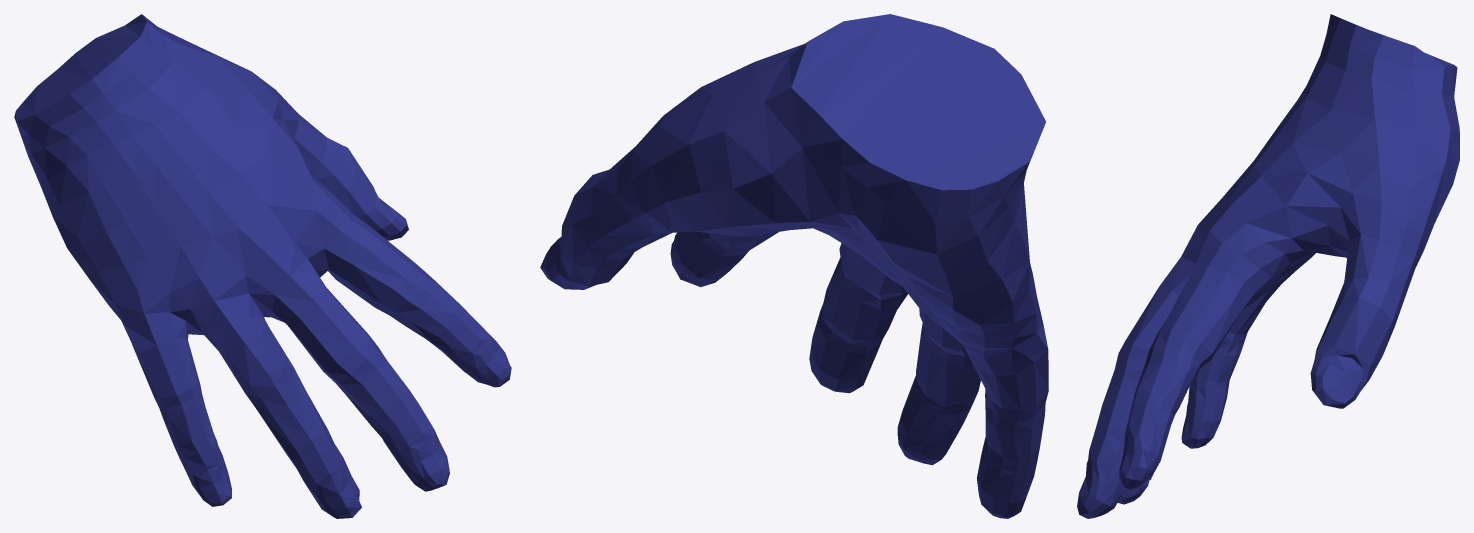
3 views of the same model, side by side, from view 1: azimuth 30°, elevation 25°; view 2: azimuth 150°, elevation 25°; view 3: azimuth 270°, elevation 25° (orthographic). The views are drawn at different scales.
Bounding box in the file's own units: 0.144 × 0.1548 × 0.1244.
